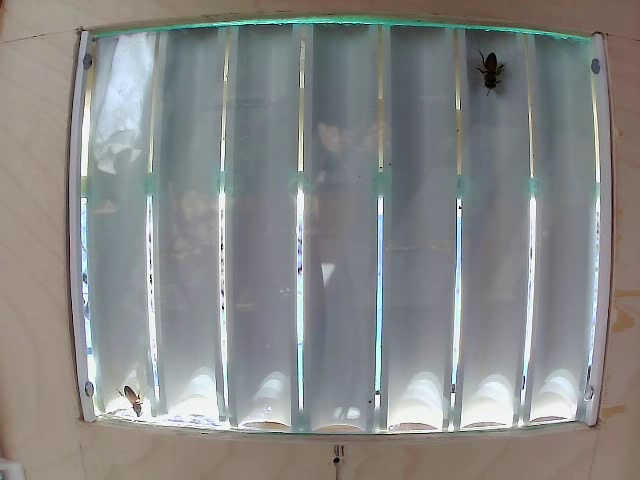bee: (463, 35, 500, 88)
